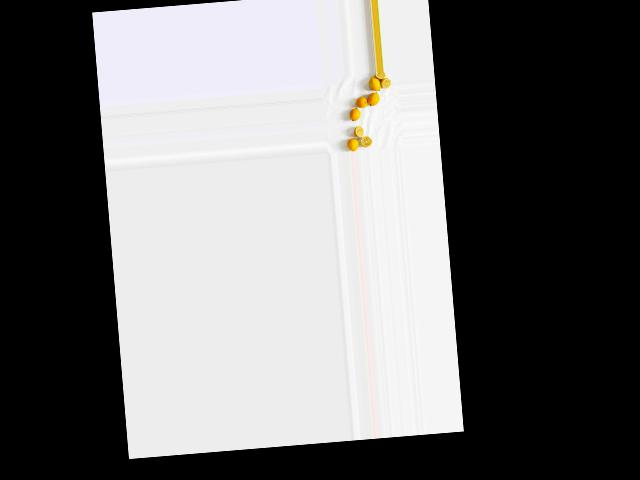lemon: (366, 75, 381, 96)
